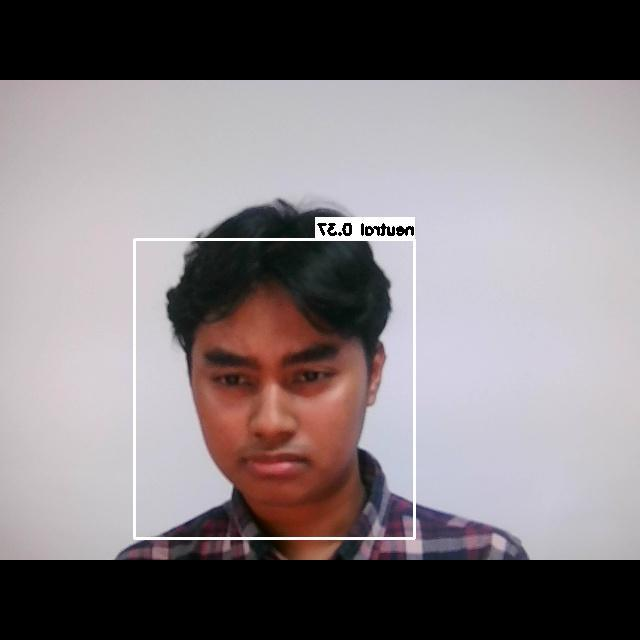Angry: (173, 323, 377, 492)
